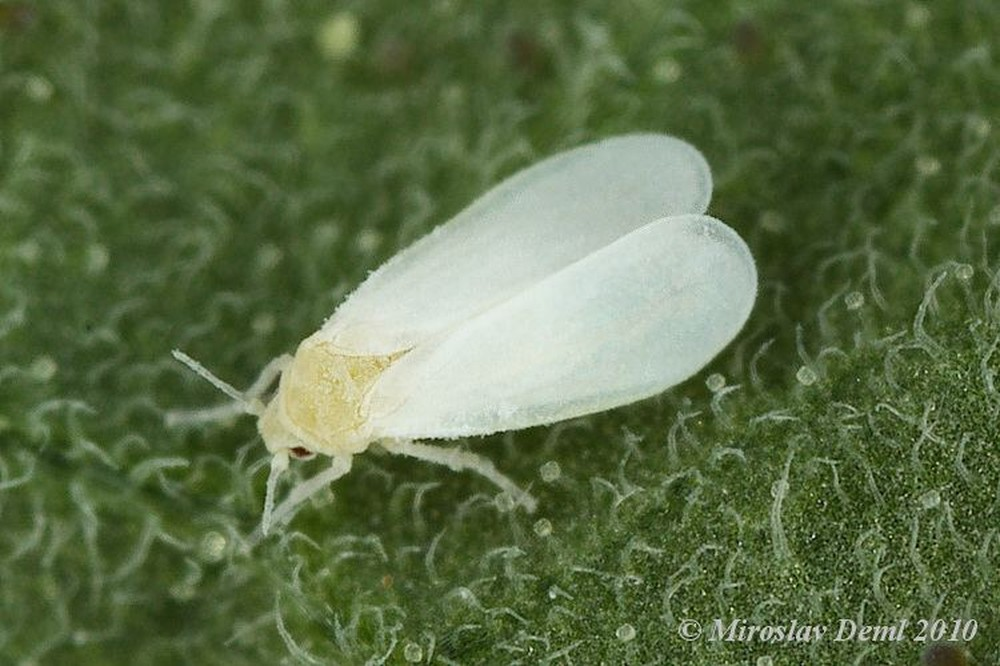Mosca Blanca: (166, 129, 774, 541)
